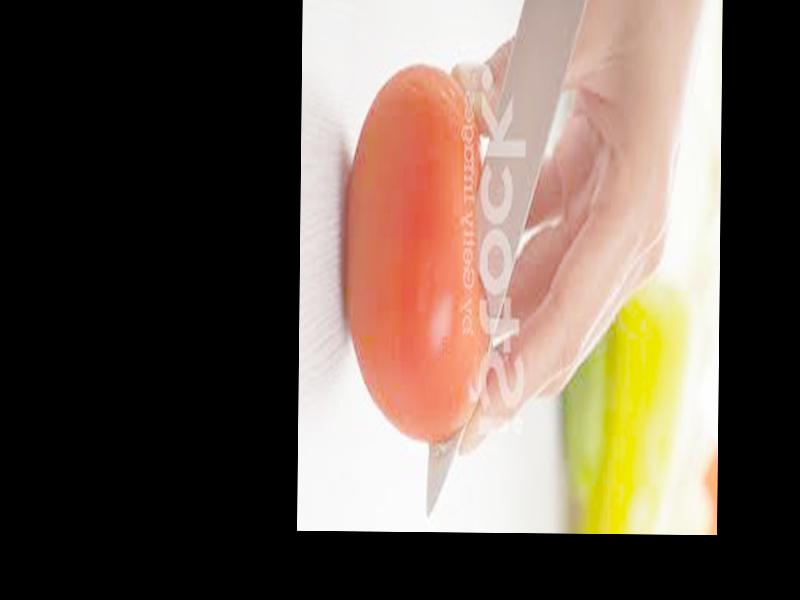Tomato: (340, 59, 491, 443)
